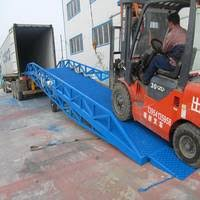Pallet Jack: (108, 1, 200, 168)
Yard Ramp: (25, 59, 194, 188)
